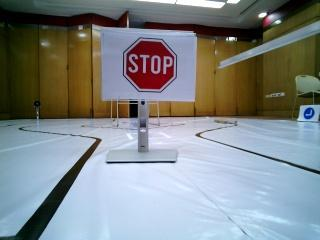stop: (102, 30, 196, 101)
